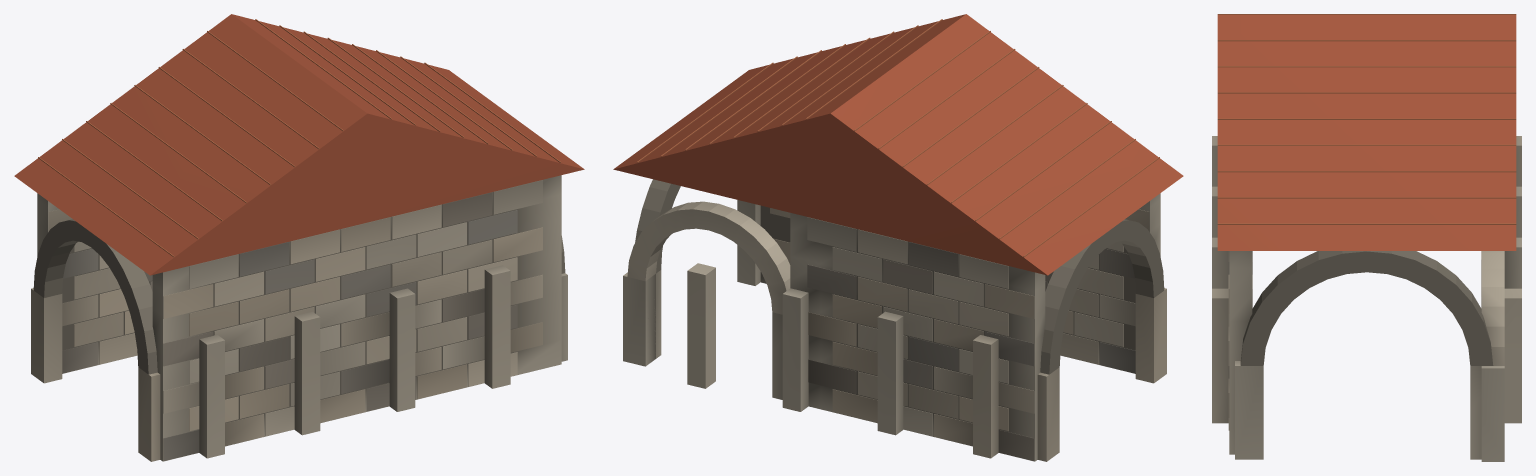
File: 06_palas.glb
3 renders of one model, left to right at view 1: azimuth 30°, elevation 25°; view 2: azimuth 150°, elevation 25°; view 3: azimuth 270°, elevation 25°, orthographic. The views are drawn at different scales.
Parts seen in each view (by area): view 1: 06_palas_roof, 06_palas_ashlar_nocol, 06_palas_stone, 06_palas_mortar_nocol, 06_palas_ashlar, 06_palas_rooflight_nocol; view 2: 06_palas_roof, 06_palas_stone, 06_palas_ashlar_nocol, 06_palas_ashlar, 06_palas_mortar_nocol, 06_palas_rooflight_nocol; view 3: 06_palas_roof, 06_palas_stone, 06_palas_ashlar, 06_palas_rooflight_nocol, 06_palas_ashlar_nocol.
Boxes of the visible parts, x1,y1,x2,y2 form: 06_palas_roof: (14, 14, 584, 275); 06_palas_ashlar_nocol: (48, 180, 542, 446); 06_palas_stone: (31, 175, 567, 461); 06_palas_mortar_nocol: (62, 192, 517, 460); 06_palas_ashlar: (33, 219, 565, 374); 06_palas_rooflight_nocol: (38, 19, 560, 257); 06_palas_roof: (613, 14, 1183, 275); 06_palas_stone: (623, 193, 1166, 461); 06_palas_ashlar_nocol: (770, 208, 1149, 446); 06_palas_ashlar: (627, 179, 1164, 374); 06_palas_mortar_nocol: (807, 242, 1135, 460); 06_palas_rooflight_nocol: (637, 19, 1159, 257); 06_palas_roof: (1217, 15, 1516, 250); 06_palas_stone: (1212, 136, 1521, 461); 06_palas_ashlar: (1240, 251, 1504, 365); 06_palas_rooflight_nocol: (1217, 14, 1516, 224); 06_palas_ashlar_nocol: (1228, 251, 1481, 430).
Size of the model in its own units: 96 by 64 by 54.
